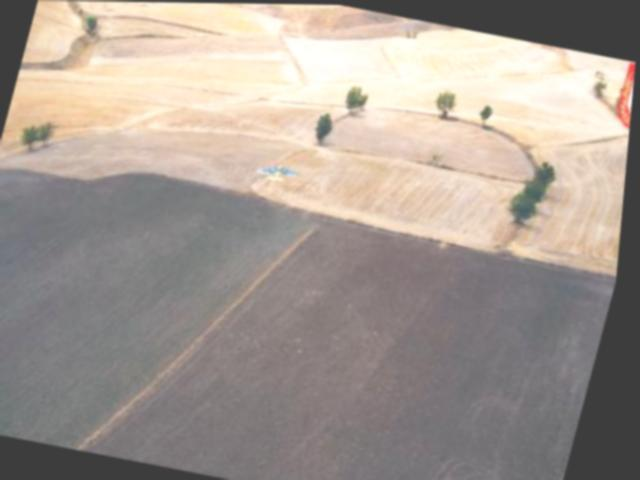uav: (254, 153, 307, 188)
